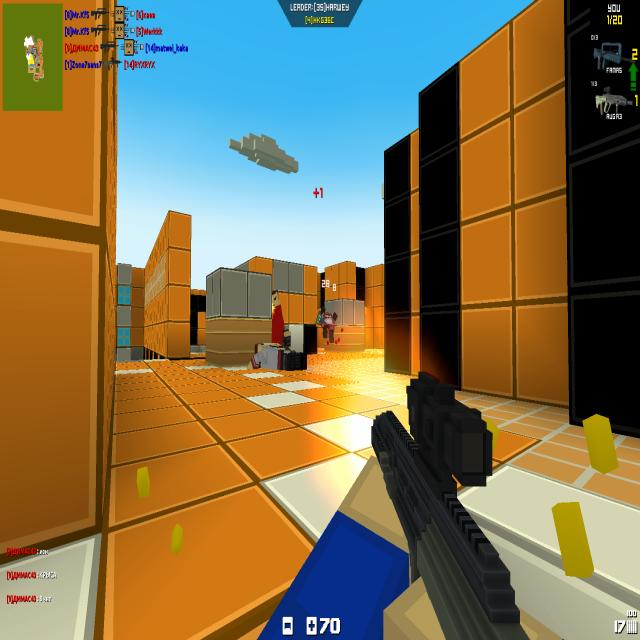enemy: (272, 288, 284, 350)
